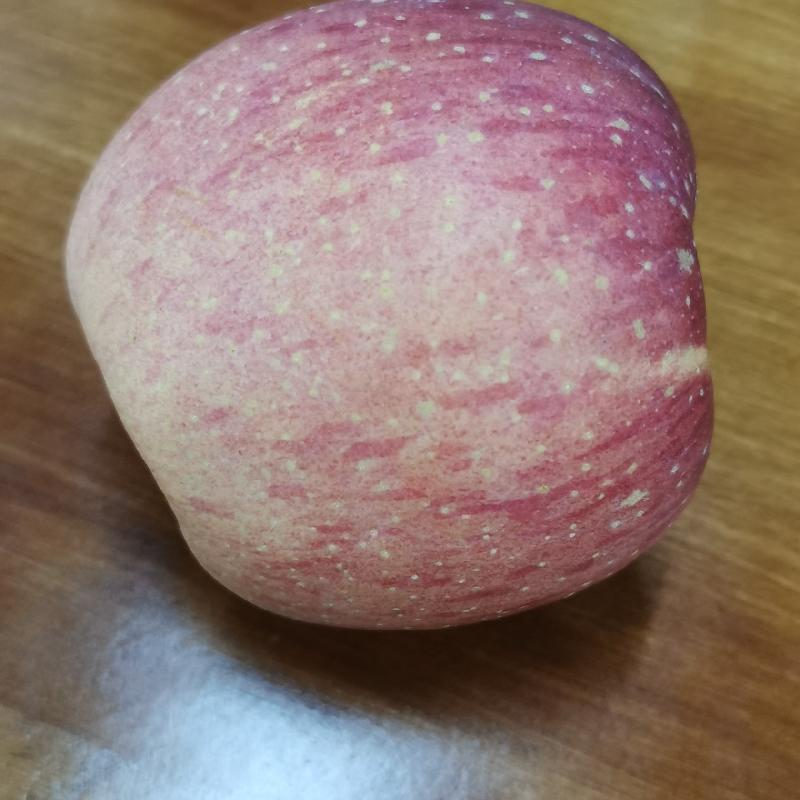apples: (57, 13, 721, 631)
